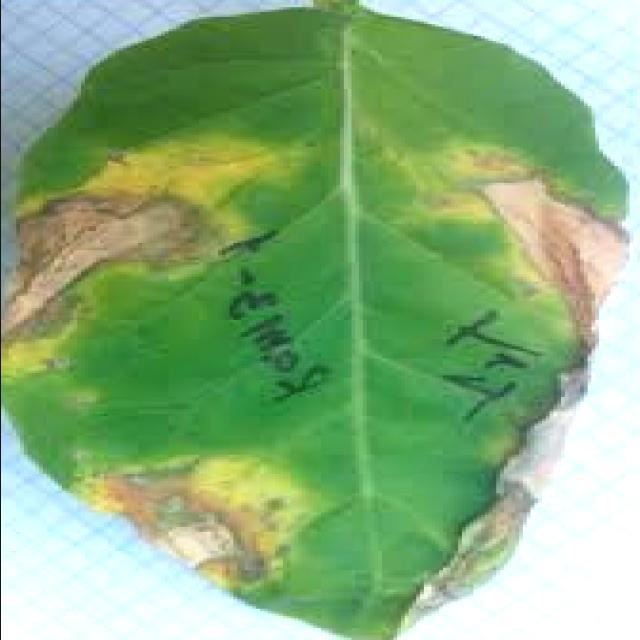leaf: (2, 1, 630, 638)
